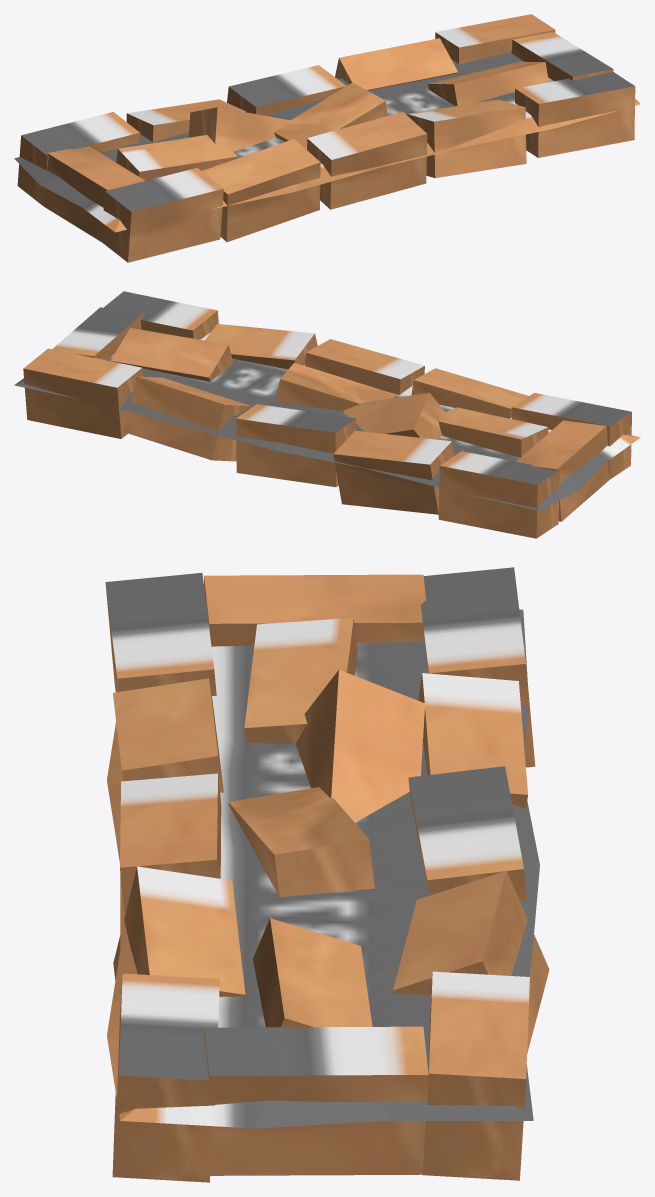
File: Brick_Wall_1x3_Destructed.fbx
3 renders of one model, top to bottom at view 1: azimuth 30°, elevation 25°; view 2: azimuth 150°, elevation 25°; view 3: azimuth 270°, elevation 25°, orthographic. The views are drawn at different scales.
Visible parts, largest first — view 1: Brick_Wall_1x3_Destructed; view 2: Brick_Wall_1x3_Destructed; view 3: Brick_Wall_1x3_Destructed.
Part boxes in pixels (bbox=[...]): Brick_Wall_1x3_Destructed: bbox=[14, 14, 640, 262]; Brick_Wall_1x3_Destructed: bbox=[14, 291, 640, 538]; Brick_Wall_1x3_Destructed: bbox=[105, 567, 549, 1182].
Bounding box in the file's own units: 3.09 × 0.5394 × 1.1.
